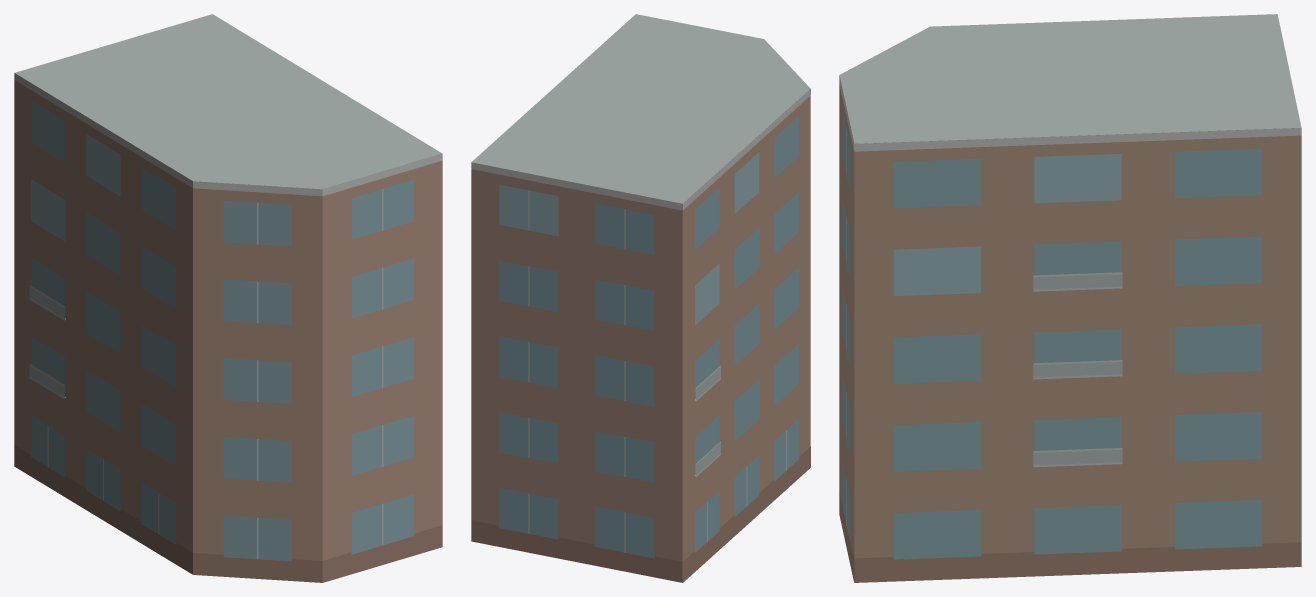
Rendered from survey-upis-32940998.glb.
The picture shows the model from 3 angles, left to right: view 1: azimuth 30°, elevation 25°; view 2: azimuth 150°, elevation 25°; view 3: azimuth 270°, elevation 25°; orthographic projection. The views are drawn at different scales.
Parts seen in each view (by area): view 1: survey-upis-32940998.tmp; view 2: survey-upis-32940998.tmp; view 3: survey-upis-32940998.tmp.
Boxes of the visible parts, <box> form: survey-upis-32940998.tmp: <box>14,14,442,582</box>; survey-upis-32940998.tmp: <box>471,14,810,582</box>; survey-upis-32940998.tmp: <box>839,14,1301,582</box>.
Bounding box in the file's own units: 8.67 × 13.65 × 13.03.
